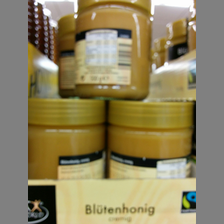honey: (76, 1, 156, 99), (28, 96, 107, 185), (108, 99, 194, 179)
